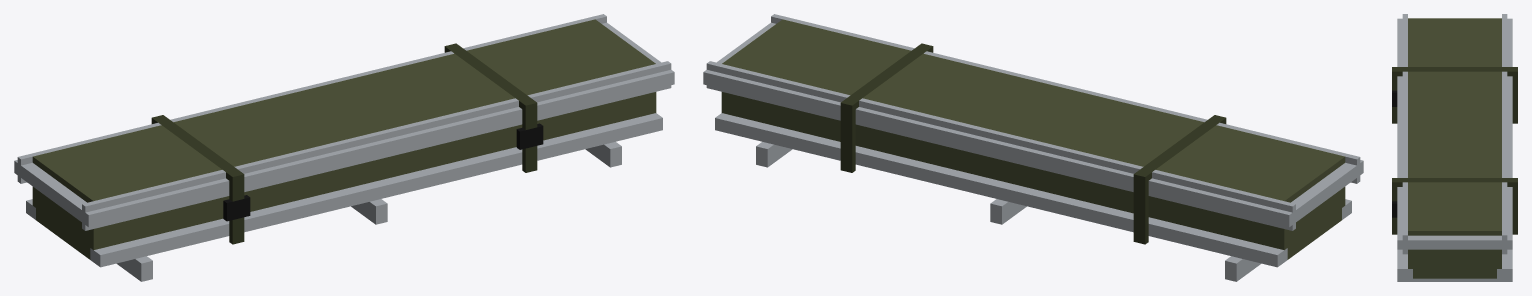
The model's file is cot.glb.
The picture shows the model from 3 angles, left to right: view 1: azimuth 30°, elevation 25°; view 2: azimuth 150°, elevation 25°; view 3: azimuth 270°, elevation 25°; orthographic projection. The views are drawn at different scales.
Parts seen in each view (by area): view 1: cot:compound; view 2: cot:compound; view 3: cot:compound.
Part boxes in pixels (x1,y1,x2,y2): cot:compound: [14, 14, 674, 281]; cot:compound: [703, 14, 1363, 281]; cot:compound: [1392, 14, 1517, 281].
Size of the model in its own units: 1 by 0.14 by 0.24.
